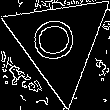O_E: (33, 18, 86, 67)
